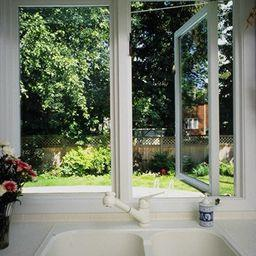Electrodomestico: (44, 191, 244, 253)
Ventana: (6, 5, 249, 203)
